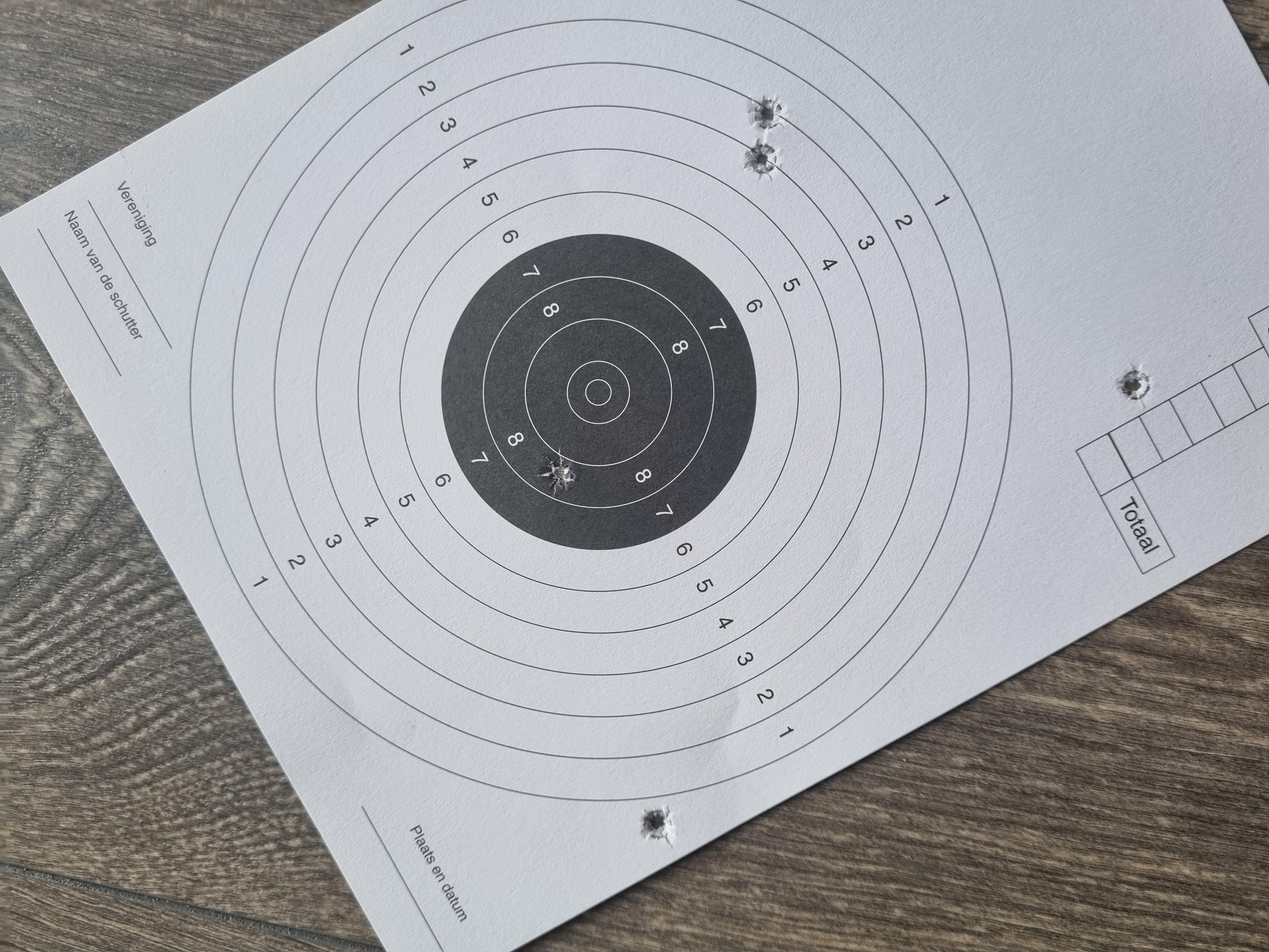hole: (608, 405, 672, 433), (1028, 558, 1084, 583), (736, 838, 784, 867), (1096, 562, 1140, 589), (147, 480, 194, 505)
